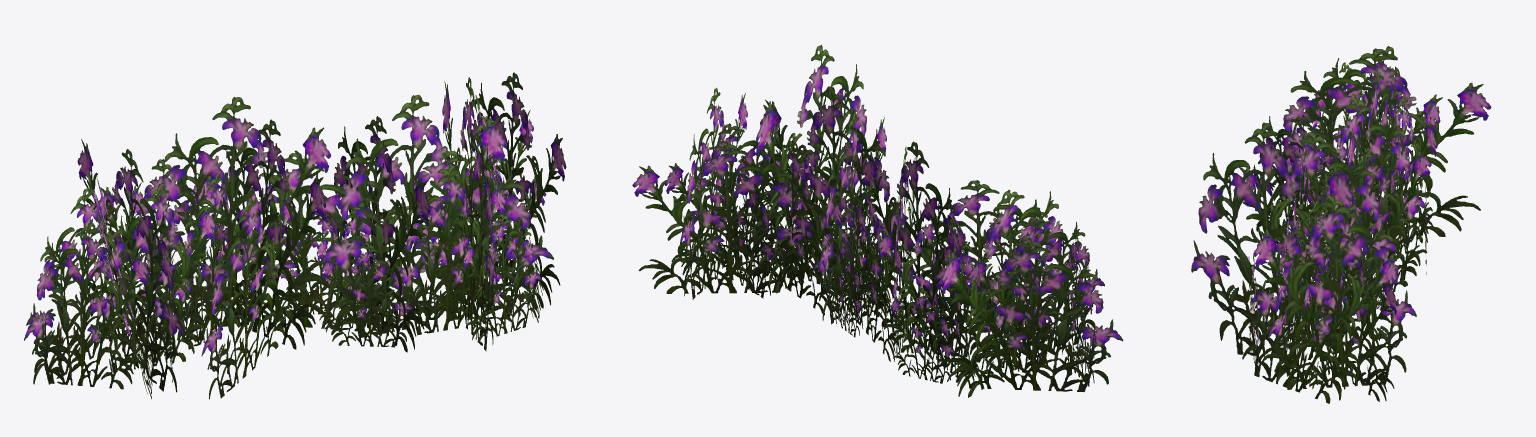
The model's file is wm_灌木野花03.fbx.
3 views of the same model, side by side, from view 1: azimuth 30°, elevation 25°; view 2: azimuth 150°, elevation 25°; view 3: azimuth 270°, elevation 25° (orthographic). The views are drawn at different scales.
Visible parts, largest first — view 1: wm_灌木野花03; view 2: wm_灌木野花03; view 3: wm_灌木野花03.
Boxes of the visible parts, <box> form: wm_灌木野花03: <box>24,72,566,399</box>; wm_灌木野花03: <box>632,44,1123,397</box>; wm_灌木野花03: <box>1191,46,1491,403</box>.
Size of the model in its own units: 195 by 93.55 by 119.
